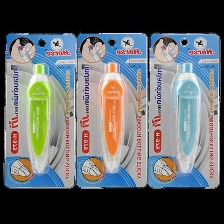book: (146, 30, 224, 192), (74, 31, 148, 191), (3, 30, 75, 190)
correction_fluid: (169, 62, 203, 174), (98, 60, 128, 175), (25, 62, 54, 176)
